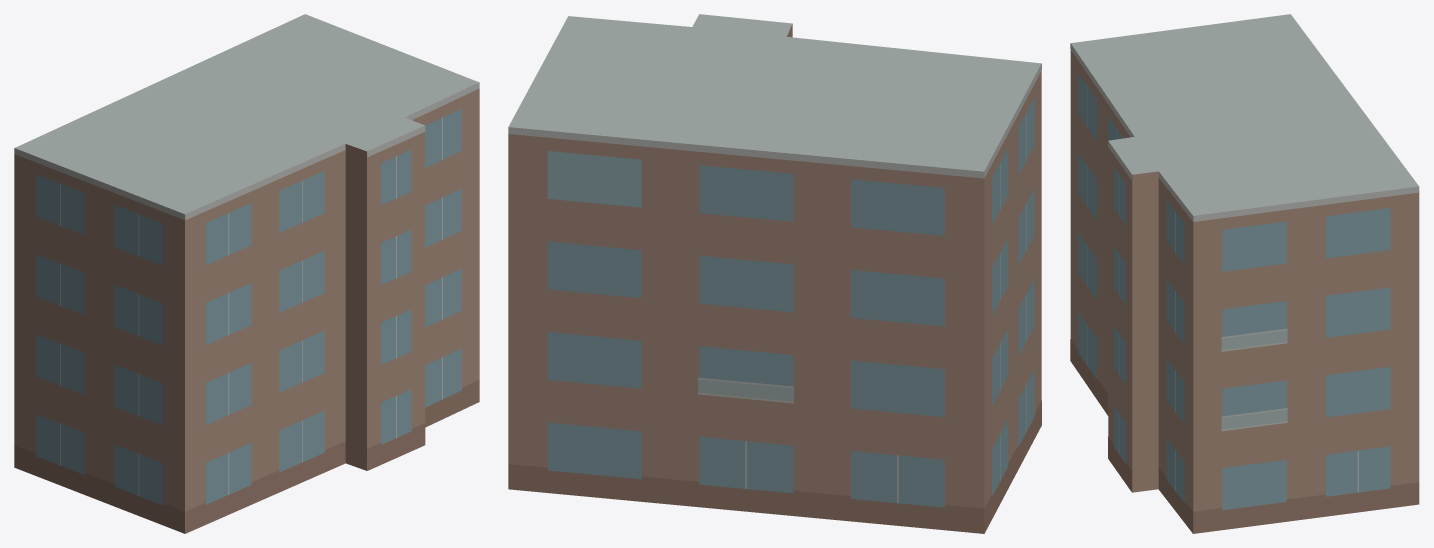
Rendered from survey-upis-32929395.glb.
The picture shows the model from 3 angles, left to right: view 1: azimuth 30°, elevation 25°; view 2: azimuth 150°, elevation 25°; view 3: azimuth 270°, elevation 25°; orthographic projection. The views are drawn at different scales.
Parts seen in each view (by area): view 1: survey-upis-32929395.tmp; view 2: survey-upis-32929395.tmp; view 3: survey-upis-32929395.tmp.
Part boxes in pixels (x1,y1,x2,y2): survey-upis-32929395.tmp: [14, 14, 479, 533]; survey-upis-32929395.tmp: [508, 14, 1041, 533]; survey-upis-32929395.tmp: [1070, 14, 1419, 533].
Size of the model in its own units: 17.59 by 12.9 by 12.84.
